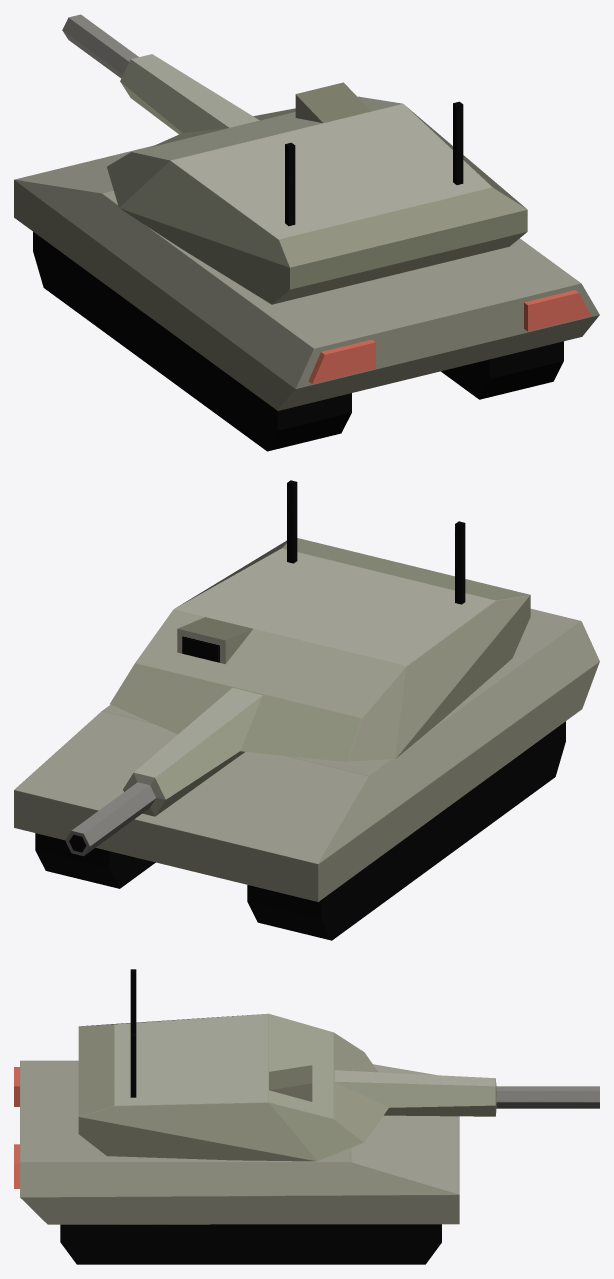
The model's file is tank_gen2.gltf.
The picture shows the model from 3 angles, top to bottom: view 1: azimuth 30°, elevation 25°; view 2: azimuth 150°, elevation 25°; view 3: azimuth 270°, elevation 25°; orthographic projection. The views are drawn at different scales.
Parts seen in each view (by area): view 1: Head, Body, Track2, Track1, TailLight1, TailLight1.001; view 2: Head, Body, Track2, Track1; view 3: Head, Body, Track1.
Part boxes in pixels (box(x1,y1,x2,y2)): Head: box(62, 14, 527, 304); Body: box(14, 145, 599, 410); Track2: box(33, 232, 351, 451); Track1: box(441, 341, 563, 399); TailLight1: box(308, 339, 375, 383); TailLight1.001: box(524, 290, 591, 331); Head: box(65, 480, 530, 856); Body: box(14, 608, 599, 901); Track2: box(247, 721, 565, 940); Track1: box(35, 833, 155, 888); Head: box(78, 969, 599, 1161); Body: box(20, 1060, 459, 1224); Track1: box(60, 1224, 441, 1264).
Bounding box in the file's own units: 16.34 × 13.63 × 34.92.
Materials: 4 (2 with a texture image).
